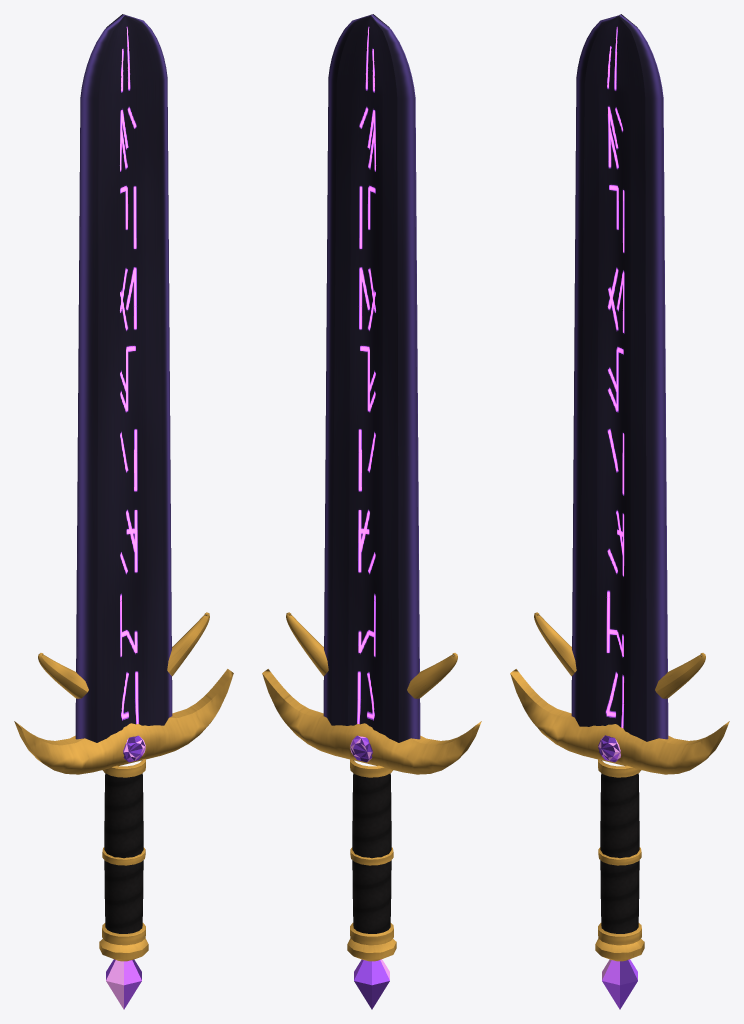
Rendered from Voidrender.glb.
3 views of the same model, side by side, from view 1: azimuth 30°, elevation 25°; view 2: azimuth 150°, elevation 25°; view 3: azimuth 330°, elevation 25° (orthographic).
Parts seen in each view (by area): view 1: Voidrender; view 2: Voidrender; view 3: Voidrender.
Part boxes in pixels (left/top/right/bottom): Voidrender: left=14, top=14, right=233, bottom=1009; Voidrender: left=262, top=14, right=481, bottom=1009; Voidrender: left=510, top=14, right=729, bottom=1009.
Size of the model in its own units: 1 by 4.45 by 0.1915.
1 material, 1 textured.
